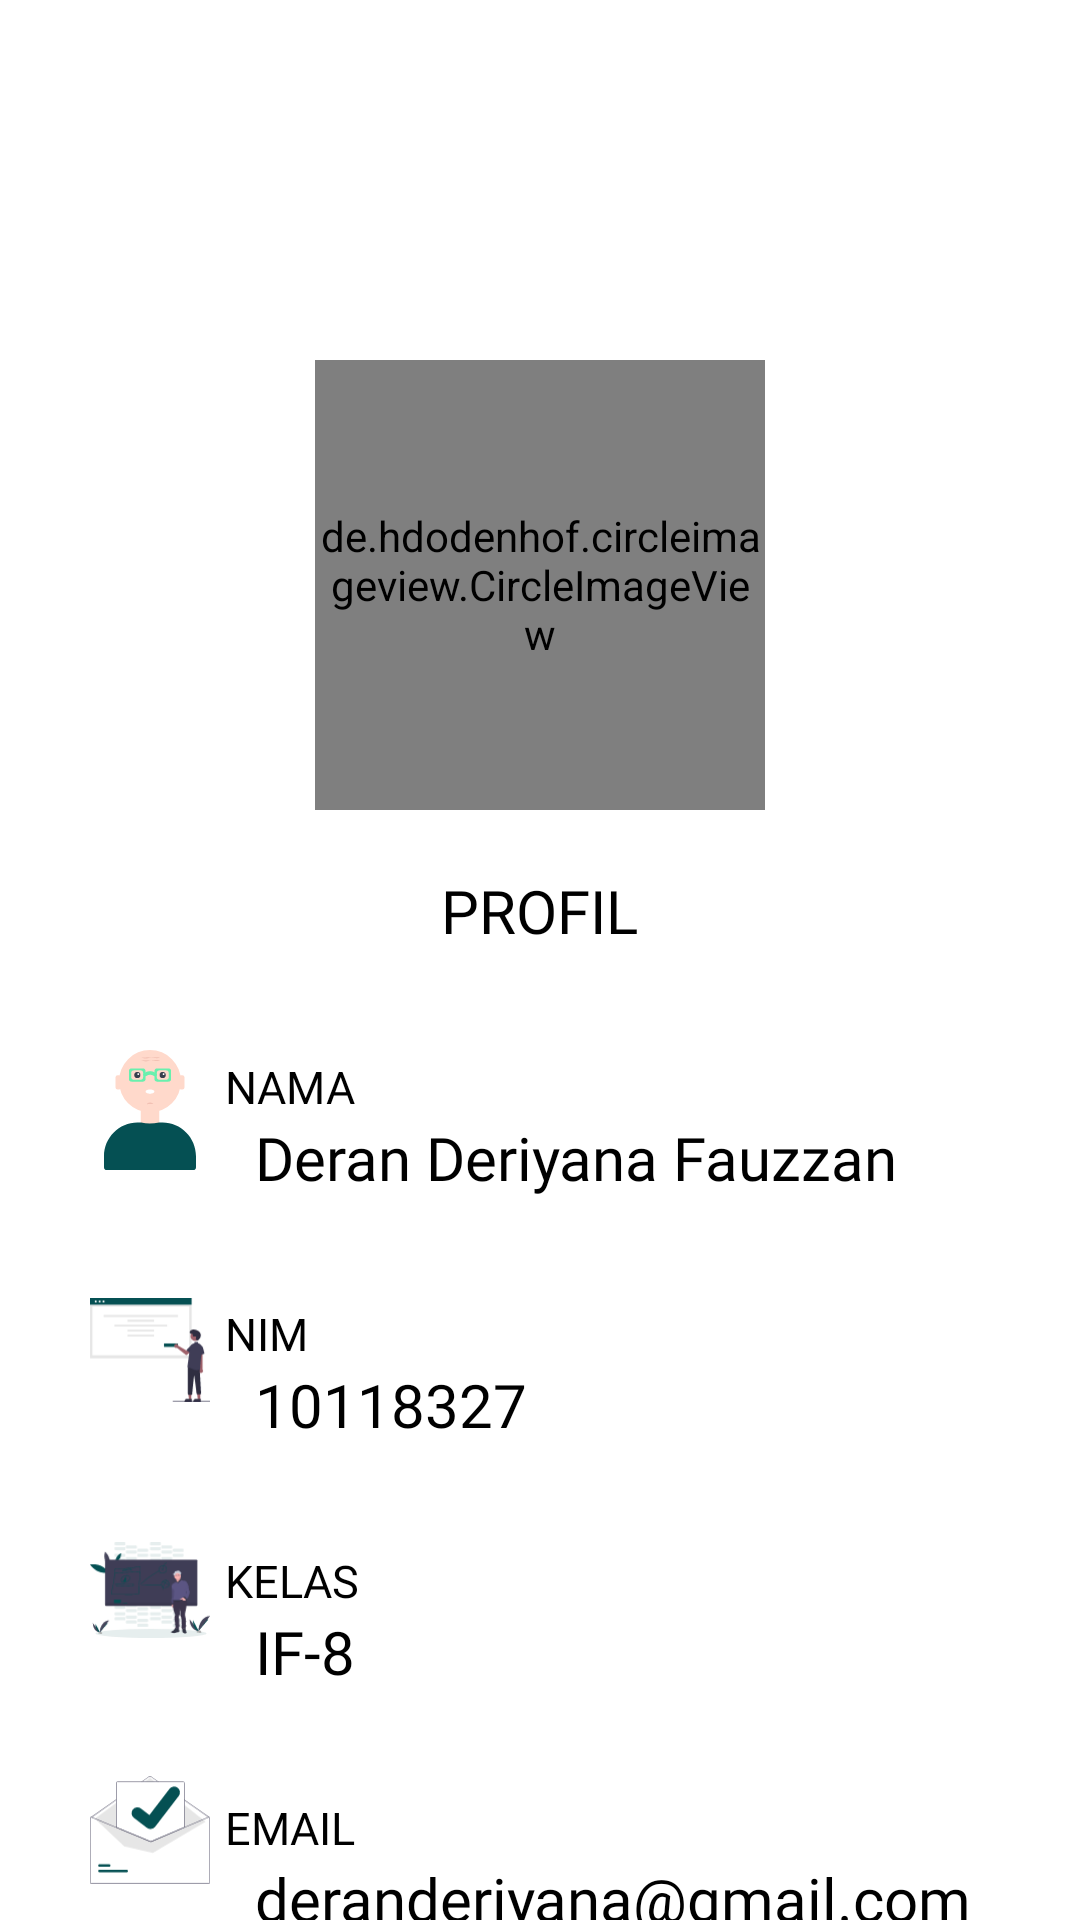

Screen size 1080×1920. Icon name, then its box in pixels as (x1, y1, x2, y2):
profil: (104, 1050, 196, 1170)
